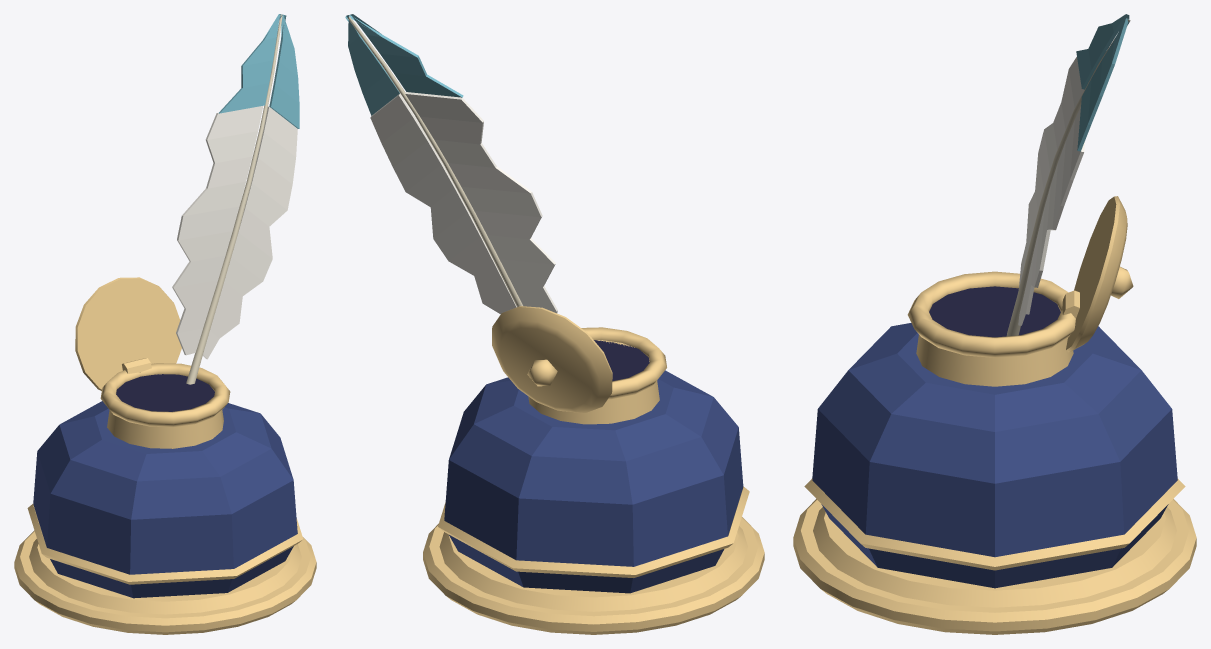
Rendered from inkwell.glb.
3 views of the same model, side by side, from view 1: azimuth 30°, elevation 25°; view 2: azimuth 150°, elevation 25°; view 3: azimuth 270°, elevation 25° (orthographic). The views are drawn at different scales.
Visible parts, largest first — view 1: inkwell; view 2: inkwell; view 3: inkwell.
Part boxes in pixels (x1,y1,x2,y2): inkwell: [14, 14, 316, 634]; inkwell: [345, 14, 764, 634]; inkwell: [793, 14, 1196, 634].
Bounding box in the file's own units: 0.766 × 1.17 × 0.66.
